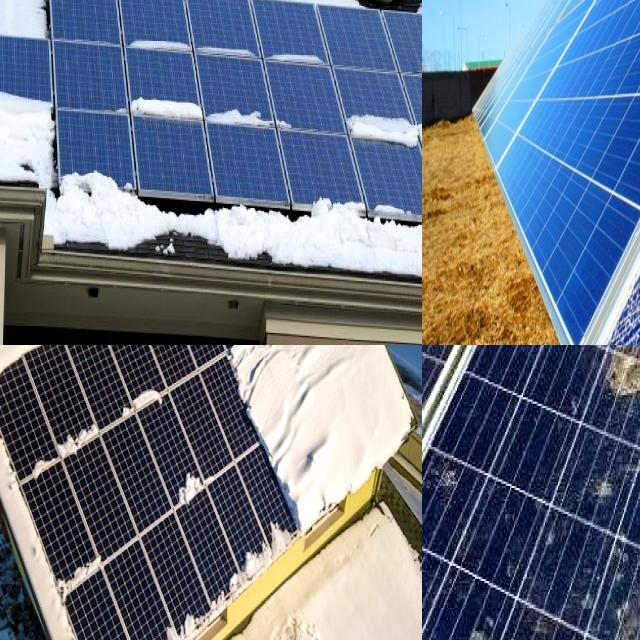bird: (604, 345, 640, 412), (432, 460, 472, 510), (466, 612, 520, 640), (584, 345, 618, 375), (422, 345, 451, 373)
panel: (247, 412, 314, 528), (204, 86, 300, 136), (214, 345, 276, 406), (43, 548, 113, 602), (68, 170, 148, 214), (342, 101, 417, 146), (194, 28, 262, 76), (0, 345, 77, 386), (128, 19, 192, 68), (0, 77, 62, 126), (232, 524, 302, 566), (306, 177, 369, 222), (54, 415, 106, 468), (144, 86, 206, 130), (168, 460, 215, 514), (114, 376, 167, 420), (266, 38, 331, 70), (117, 345, 193, 371), (0, 398, 20, 492), (24, 443, 66, 486), (280, 345, 355, 368), (372, 192, 412, 234), (304, 345, 359, 373), (192, 576, 231, 612), (161, 345, 218, 367), (264, 345, 333, 363), (219, 345, 274, 365), (55, 345, 111, 361)
